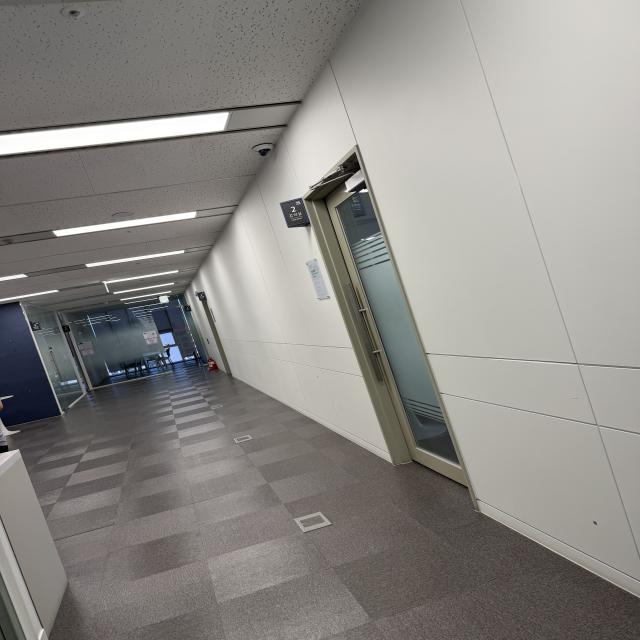sign: (277, 198, 309, 226)
